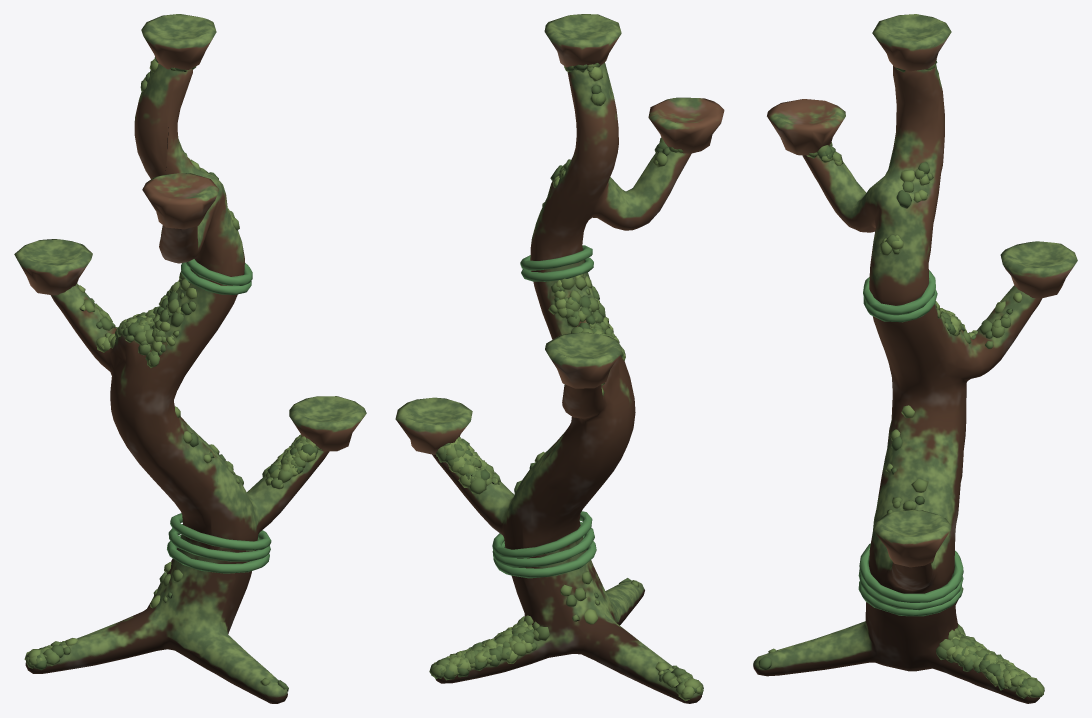
The model's file is RackBase_Tree.fbx.
The picture shows the model from 3 angles, left to right: view 1: azimuth 30°, elevation 25°; view 2: azimuth 150°, elevation 25°; view 3: azimuth 270°, elevation 25°; orthographic projection.
Parts seen in each view (by area): view 1: RackBase_Tree; view 2: RackBase_Tree; view 3: RackBase_Tree.
Boxes of the visible parts, x1,y1,x2,y2 form: RackBase_Tree: (14, 14, 366, 703); RackBase_Tree: (395, 14, 724, 703); RackBase_Tree: (753, 14, 1077, 703).
Bounding box in the file's own units: 0.8536 × 1.62 × 0.7518.
